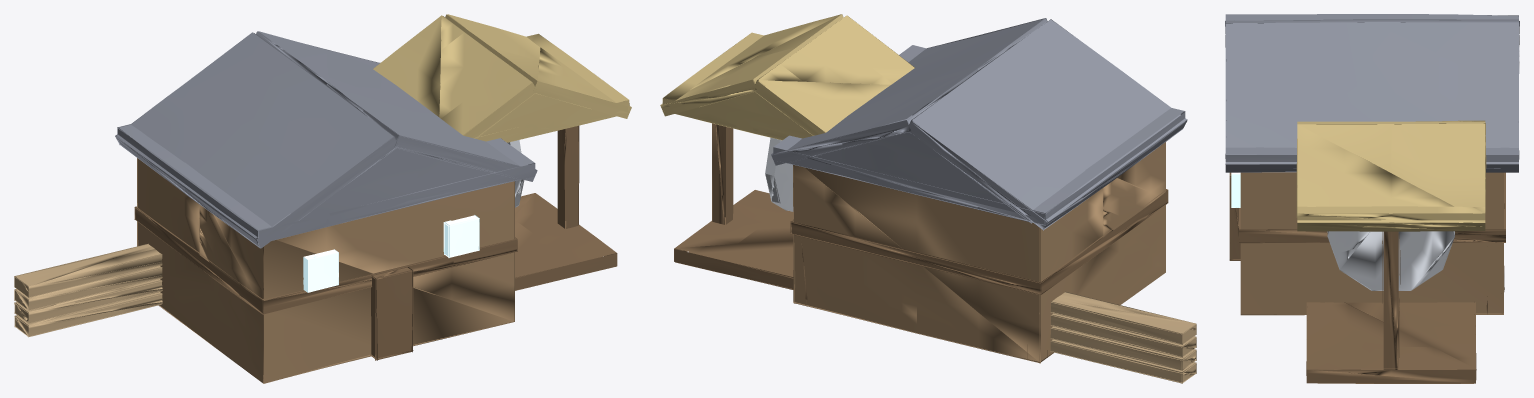
The model's file is sawmill.glb.
3 renders of one model, left to right at view 1: azimuth 30°, elevation 25°; view 2: azimuth 150°, elevation 25°; view 3: azimuth 270°, elevation 25°, orthographic. The views are drawn at different scales.
Parts seen in each view (by area): view 1: SawmillWall; view 2: SawmillWall; view 3: SawmillWall.
Boxes of the visible parts, x1,y1,x2,y2 form: SawmillWall: [14, 14, 631, 383]; SawmillWall: [660, 14, 1196, 383]; SawmillWall: [1225, 14, 1519, 383].
Bounding box in the file's own units: 3.37 × 1.37 × 1.57.
